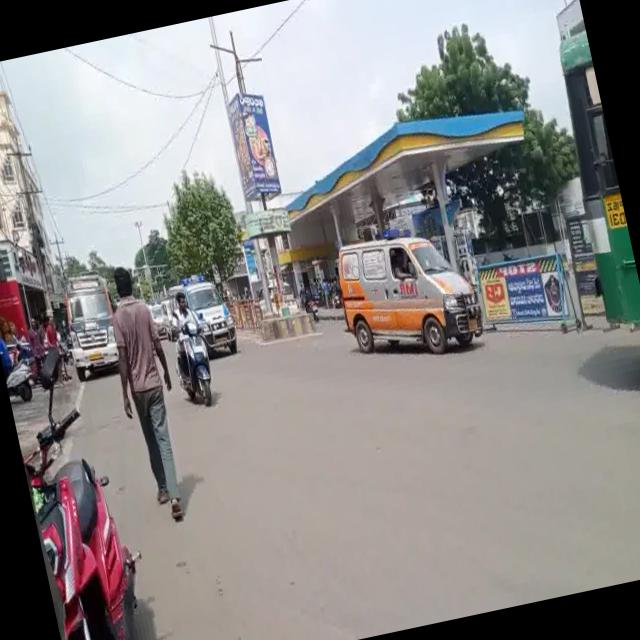ambulance: (323, 211, 482, 364), (46, 260, 120, 384)
